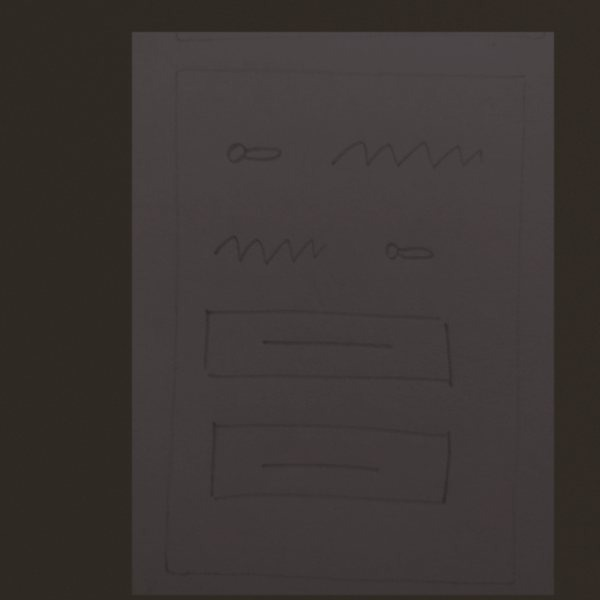button: (200, 414, 463, 517), (192, 299, 462, 397)
switch: (214, 129, 290, 176), (370, 230, 446, 275)
text: (316, 129, 493, 175), (207, 224, 332, 270)
